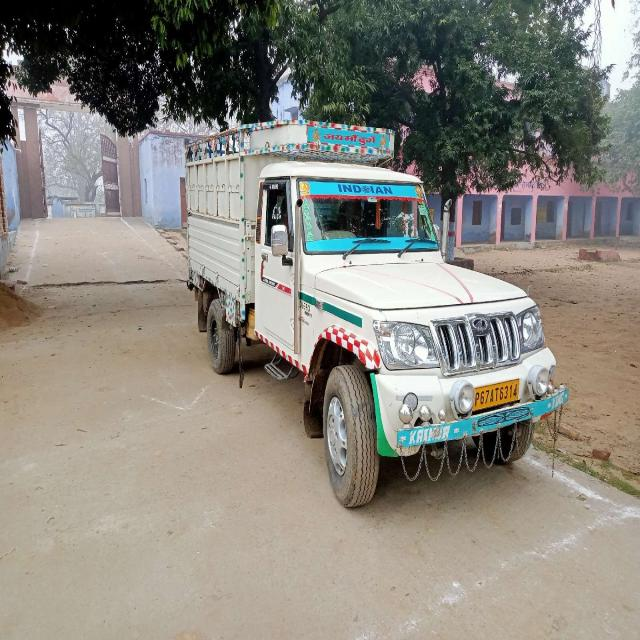light_vehicle: (248, 164, 544, 434)
